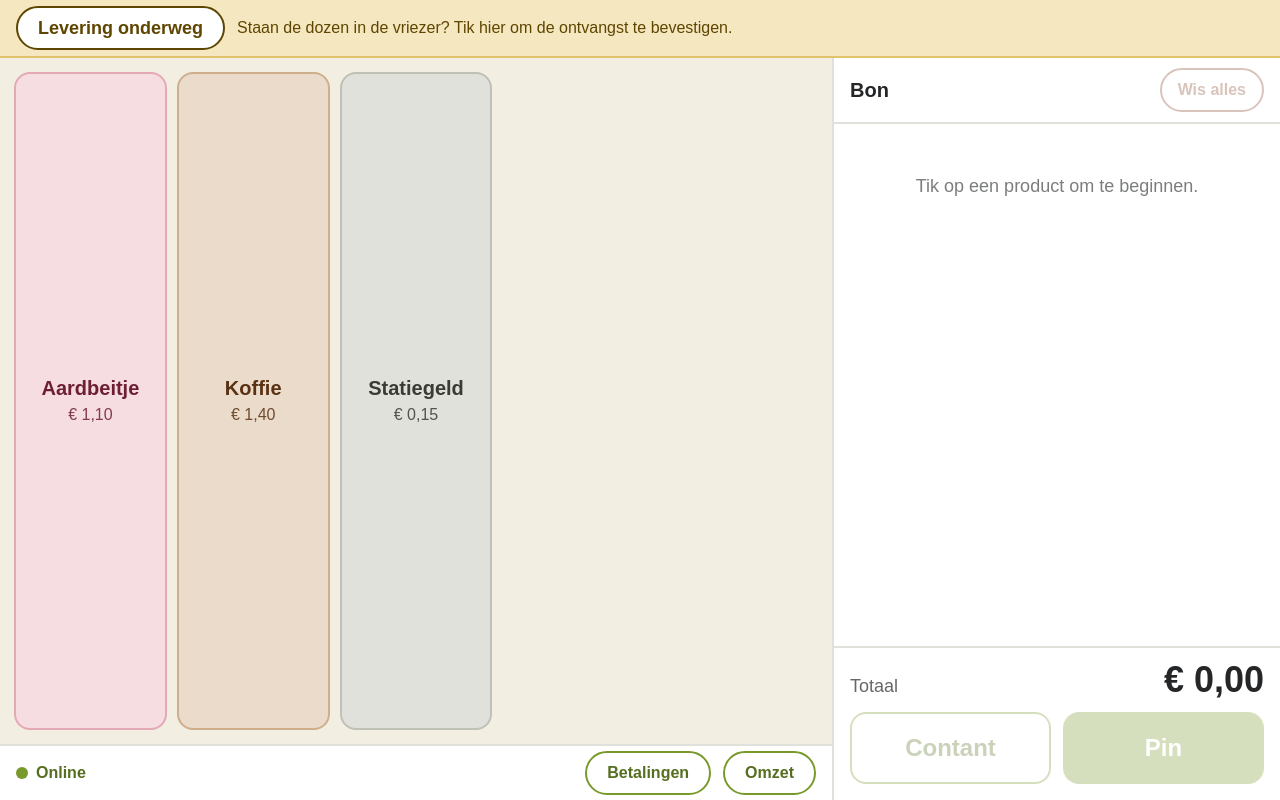
it: cannot confirm a delivery without a connection, and says the server refused when it did
Click the button "Levering onderweg".
click(120, 28)  # box [16,6,225,50]
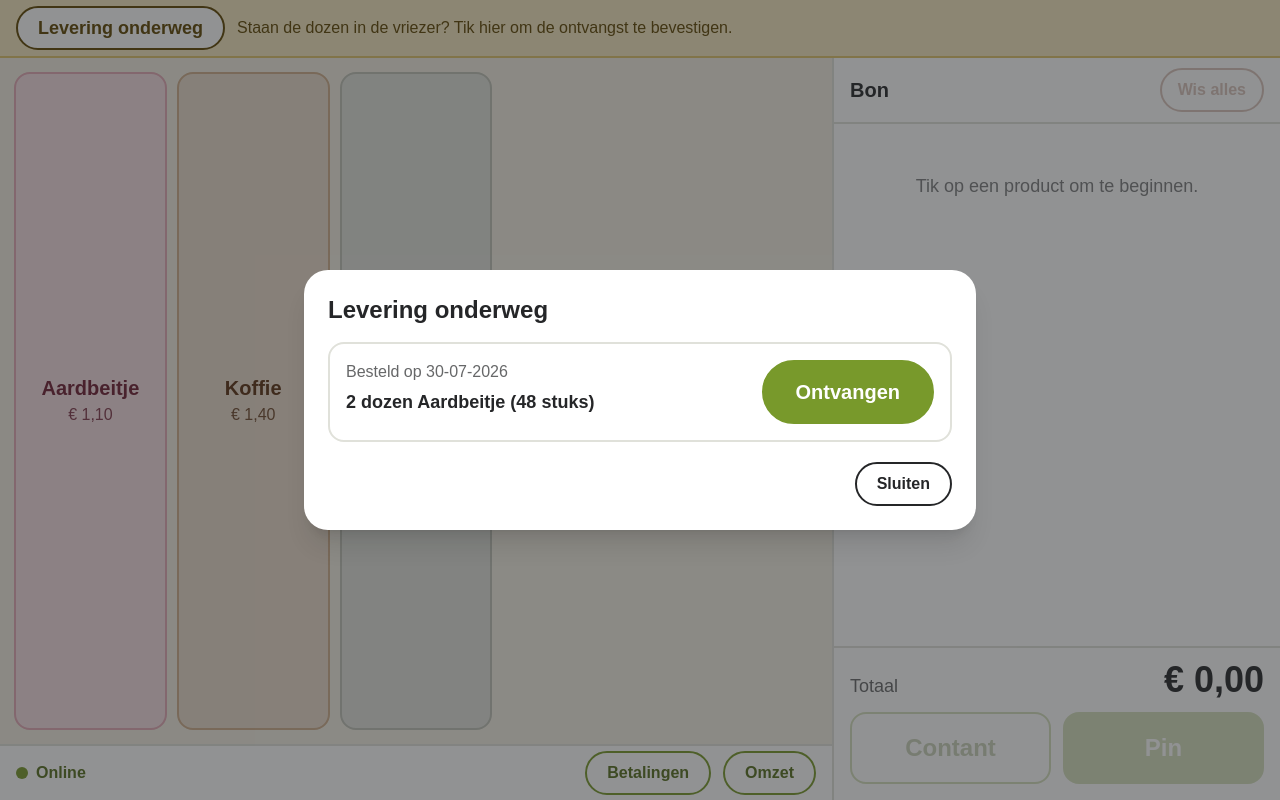
Click the button "Ontvangen".
click(848, 392)  # box [762,360,934,424]
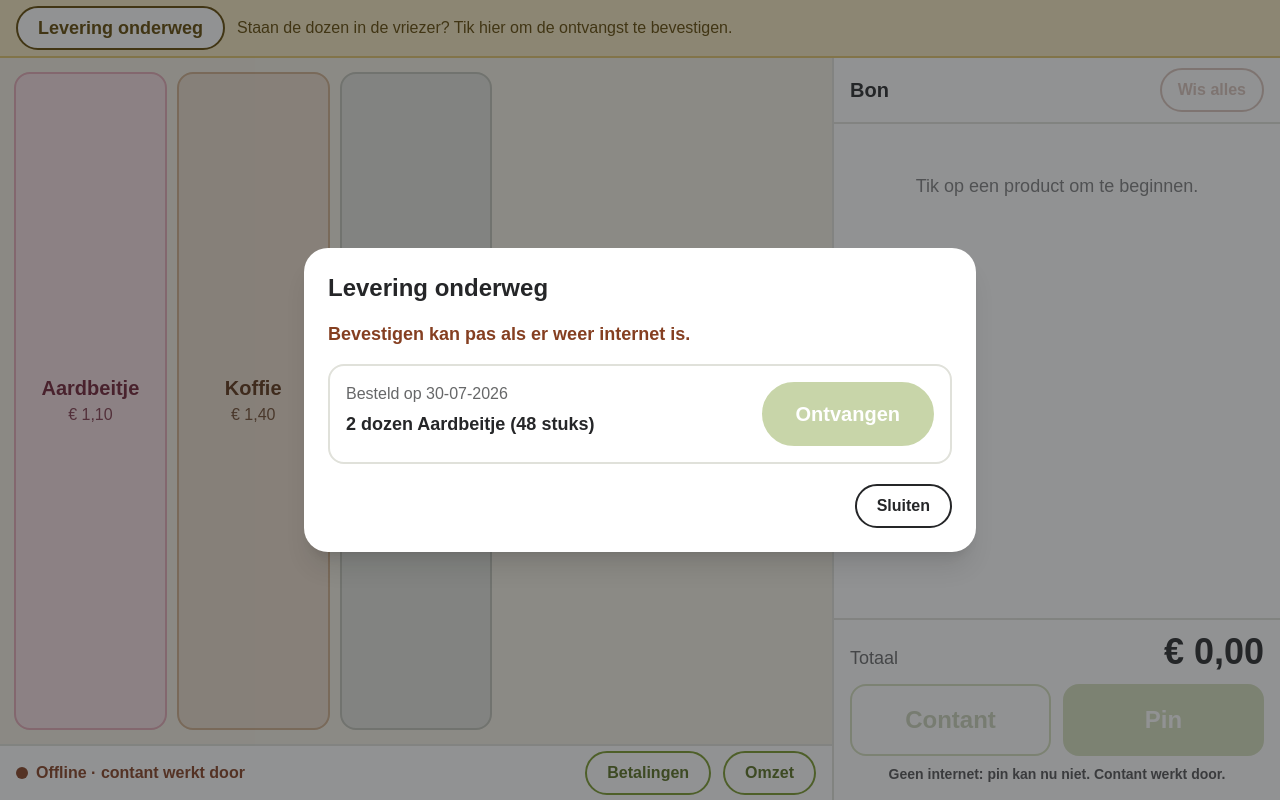
Result: the text "Bevestigen kan pas als er weer internet is." is shown at [328,324,690,344]
Result: the button "Ontvangen" is disabled at [762,382,934,446]
